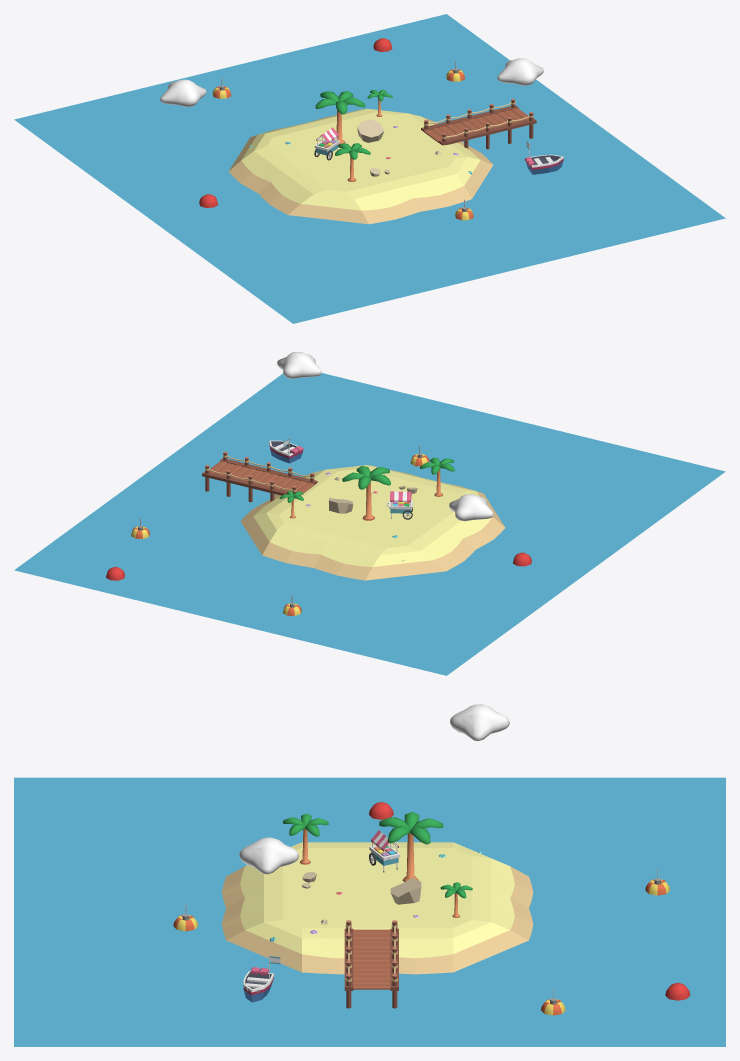
The picture shows the model from 3 angles, top to bottom: view 1: azimuth 30°, elevation 25°; view 2: azimuth 150°, elevation 25°; view 3: azimuth 270°, elevation 25°; orthographic projection. The views are drawn at different scales.
Visible parts, largest first — view 1: Sea_MainFloor, Sand_Slope (×8), Sand_Plane, Sand_Slope_Middle (×3), Bridge_Beach, Cloud (×2), PalmTree, Boat, IceCreamCart, StoneX1; view 2: Sea_MainFloor, Sand_Slope (×7), Sand_Plane, Bridge_Beach, Sand_Slope_Middle (×2), Cloud (×2), PalmTree, Boat, IceCreamCart; view 3: Sea_MainFloor, Sand_Slope (×8), Sand_Plane, Sand_Slope_Middle (×2), Bridge_Beach, Cloud (×2), PalmTree, Boat, palmTree, IceCreamCart, StoneX1.
Boxes of the visible parts, <box> form: Sea_MainFloor: <box>14,14,725,323</box>; Sand_Slope (×8): <box>228,109,492,224</box>; Sand_Plane: <box>280,118,441,186</box>; Sand_Slope_Middle (×3): <box>229,134,493,224</box>; Bridge_Beach: <box>421,98,536,149</box>; Cloud (×2): <box>160,58,543,107</box>; PalmTree: <box>315,91,365,144</box>; Boat: <box>524,141,563,174</box>; IceCreamCart: <box>314,127,339,160</box>; StoneX1: <box>357,119,384,142</box>; Sea_MainFloor: <box>14,373,725,675</box>; Sand_Slope (×7): <box>241,469,504,580</box>; Sand_Plane: <box>294,479,453,542</box>; Bridge_Beach: <box>202,451,317,502</box>; Sand_Slope_Middle (×2): <box>240,513,445,580</box>; Cloud (×2): <box>277,352,493,521</box>; PalmTree: <box>342,466,390,520</box>; Boat: <box>269,437,303,463</box>; IceCreamCart: <box>386,491,412,519</box>; Sea_MainFloor: <box>14,777,725,1046</box>; Sand_Slope (×8): <box>221,842,533,974</box>; Sand_Plane: <box>302,856,453,919</box>; Sand_Slope_Middle (×2): <box>226,920,528,972</box>; Bridge_Beach: <box>344,920,398,1008</box>; Cloud (×2): <box>239,704,509,874</box>; PalmTree: <box>379,812,443,881</box>; Boat: <box>243,954,280,1002</box>; palmTree: <box>283,813,328,864</box>; IceCreamCart: <box>369,830,400,872</box>; StoneX1: <box>390,877,421,904</box>.
Bounding box in the file's own units: 0.5049 × 0.1249 × 0.5643.
Materials: 2 (2 with a texture image).
